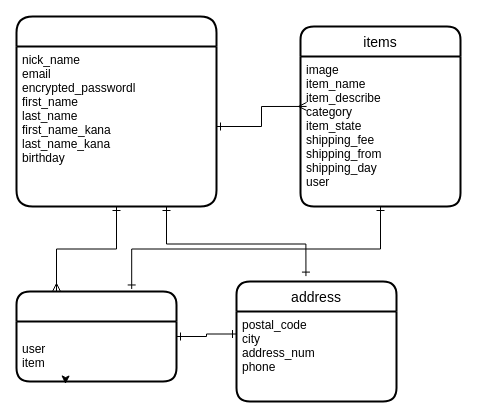
Image size: 477x418. Some labels were removed from this diagram. The box of each missing label's shape, as (x1, y1, x2, y2) in pixels:
purchases: (15, 290, 177, 382)
users: (15, 15, 217, 207)
